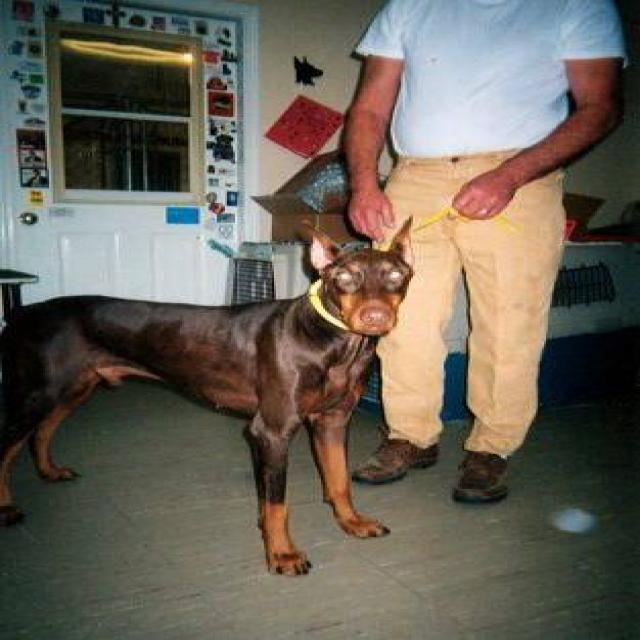Dog: (292, 213, 434, 344)
